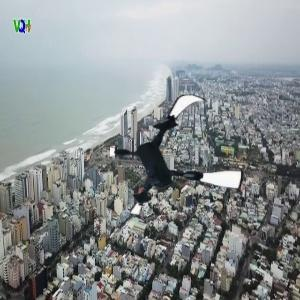drone: (111, 93, 246, 228)
